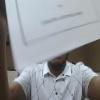notebook: (3, 0, 99, 72)
